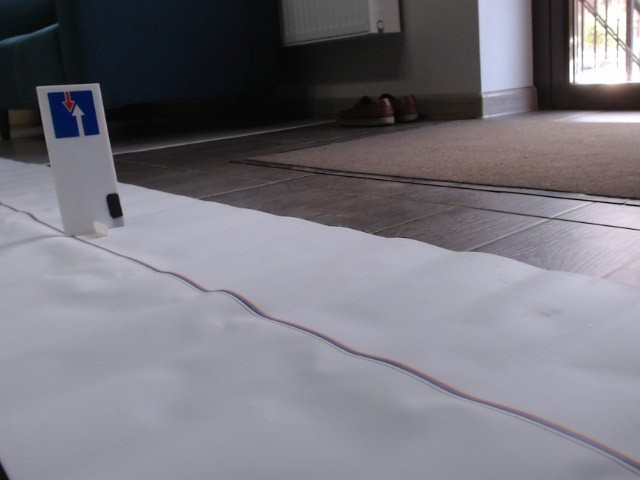priority_movement: (45, 90, 102, 139)
